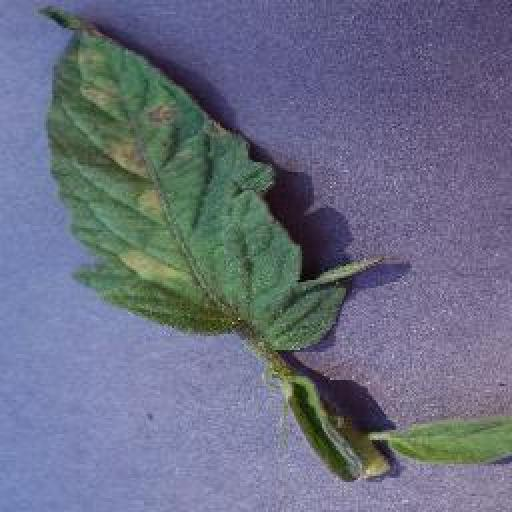Leaf Mold: (42, 1, 381, 352)
